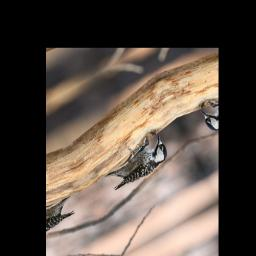Woodpecker: (98, 129, 173, 194)
